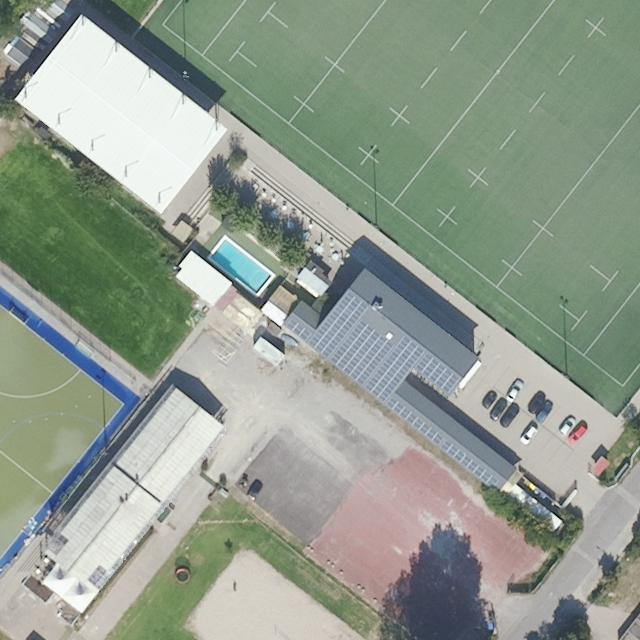PV: (281, 283, 503, 493)
